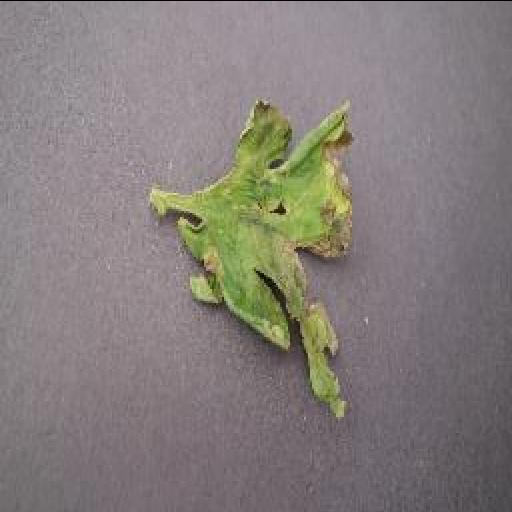disease_tomato: (166, 89, 368, 435)
